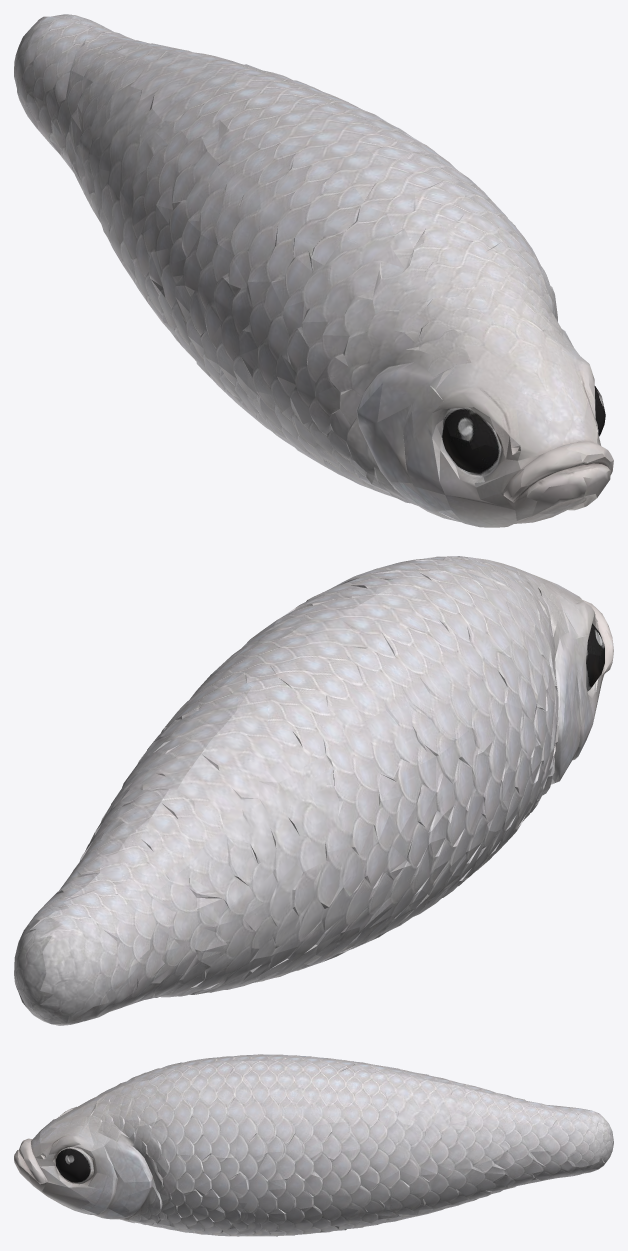
Rendered from body-male.glb.
The picture shows the model from 3 angles, top to bottom: view 1: azimuth 30°, elevation 25°; view 2: azimuth 150°, elevation 25°; view 3: azimuth 270°, elevation 25°; orthographic projection. The views are drawn at different scales.
Bounding box in the file's own units: 0.0898 × 0.1 × 0.3216.
Materials: 1 (1 with a texture image).
